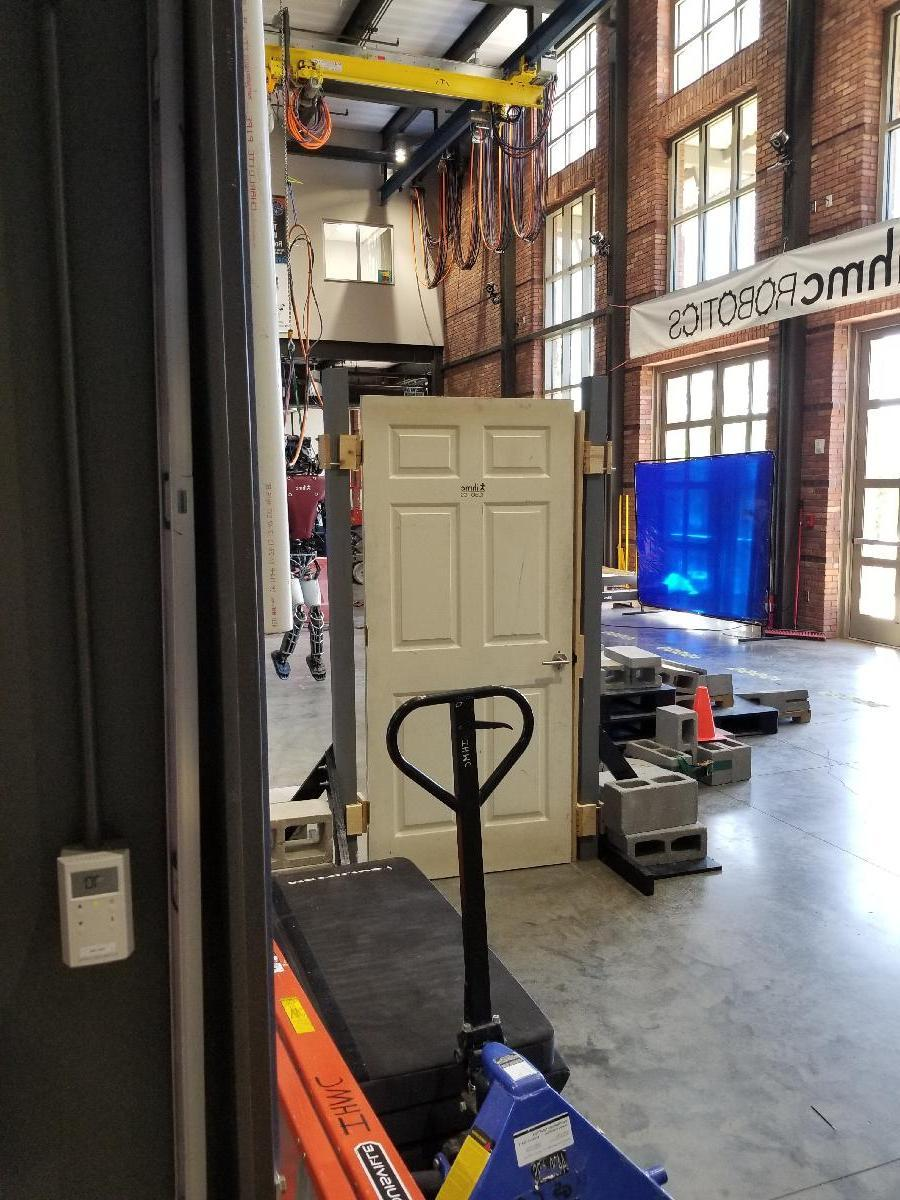door: (352, 396, 576, 884)
handle: (540, 651, 570, 672)
